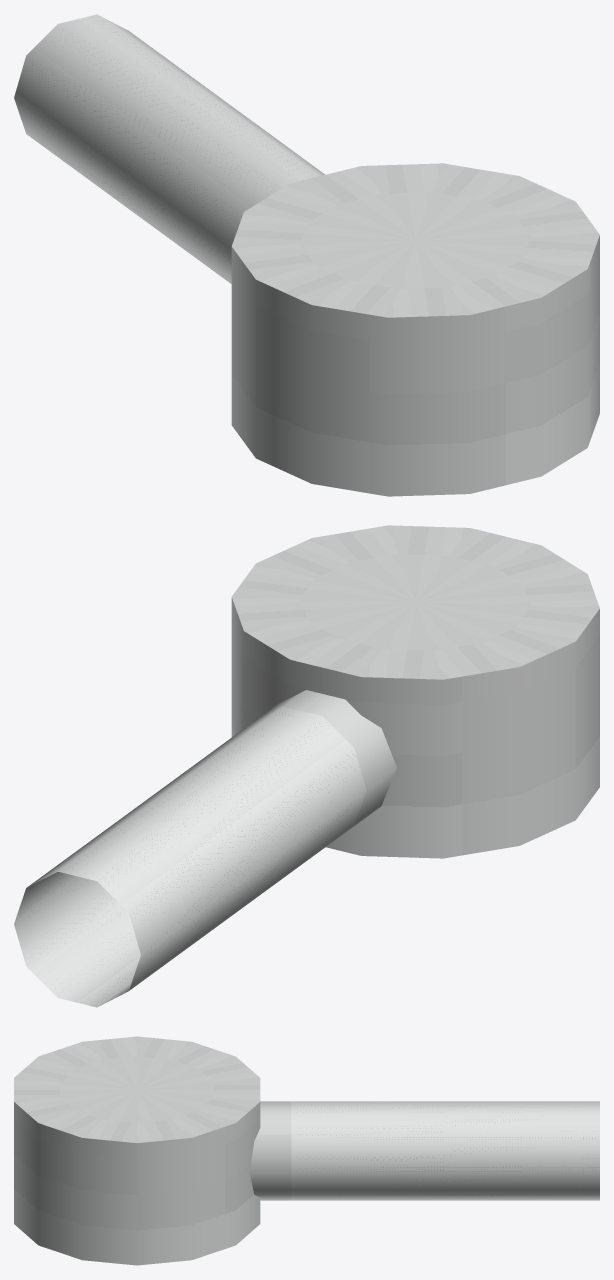
The model's file is trusssignalarm_level10_c0.obj.
The picture shows the model from 3 angles, top to bottom: view 1: azimuth 30°, elevation 25°; view 2: azimuth 150°, elevation 25°; view 3: azimuth 270°, elevation 25°; orthographic projection. The views are drawn at different scales.
Visible parts, largest first — view 1: trusssignalarm_level10_c0; view 2: trusssignalarm_level10_c0; view 3: trusssignalarm_level10_c0.
Boxes of the visible parts, x1=… form: trusssignalarm_level10_c0: x1=14, y1=14, x2=599, y2=496; trusssignalarm_level10_c0: x1=14, y1=525, x2=599, y2=1007; trusssignalarm_level10_c0: x1=14, y1=1036, x2=599, y2=1265.
Size of the model in its own units: 0.8188 by 0.4375 by 1.9.
